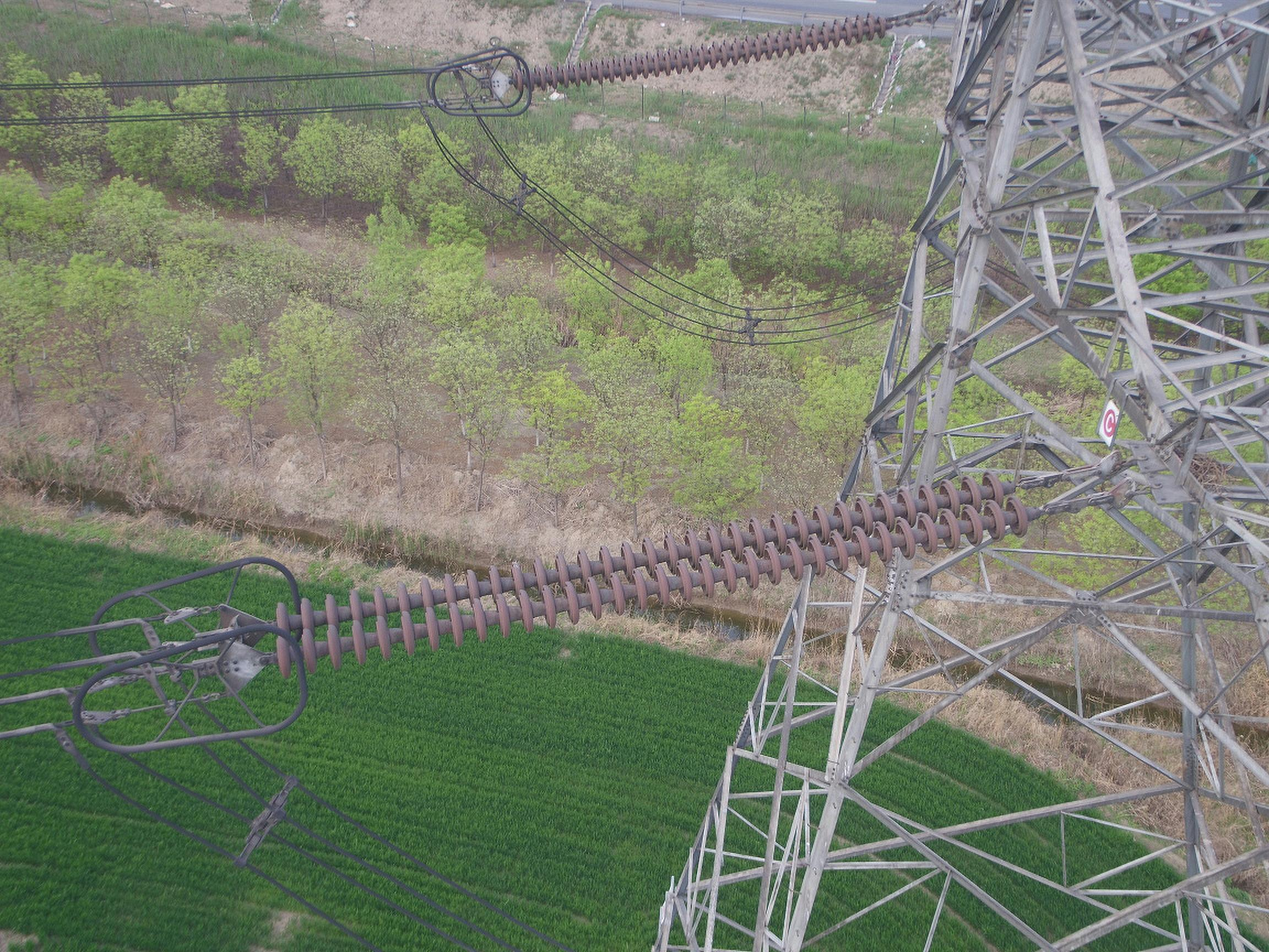insulator: (268, 468, 1032, 681), (507, 9, 892, 97)
